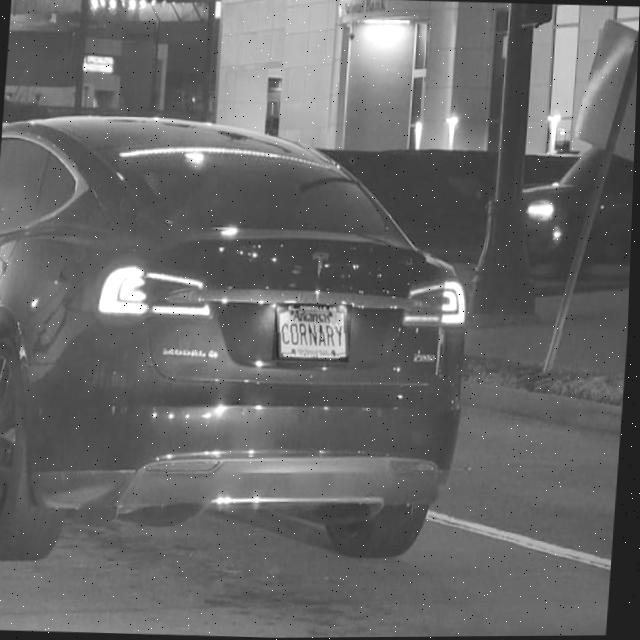LicensePlate: (277, 305, 352, 361)
